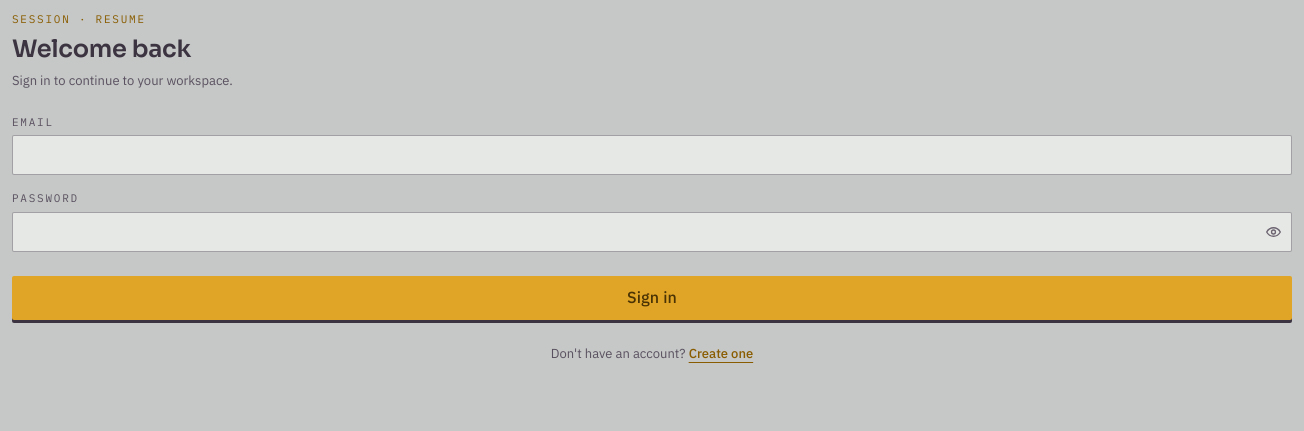
LoginPage › shows the server's real error message on wrong credentials, without redirecting
The width and height of the screenshot is (1304, 431).
Type "alice@example.com" into the field labelled "Email" at (652, 155), box [12,135,1292,175]
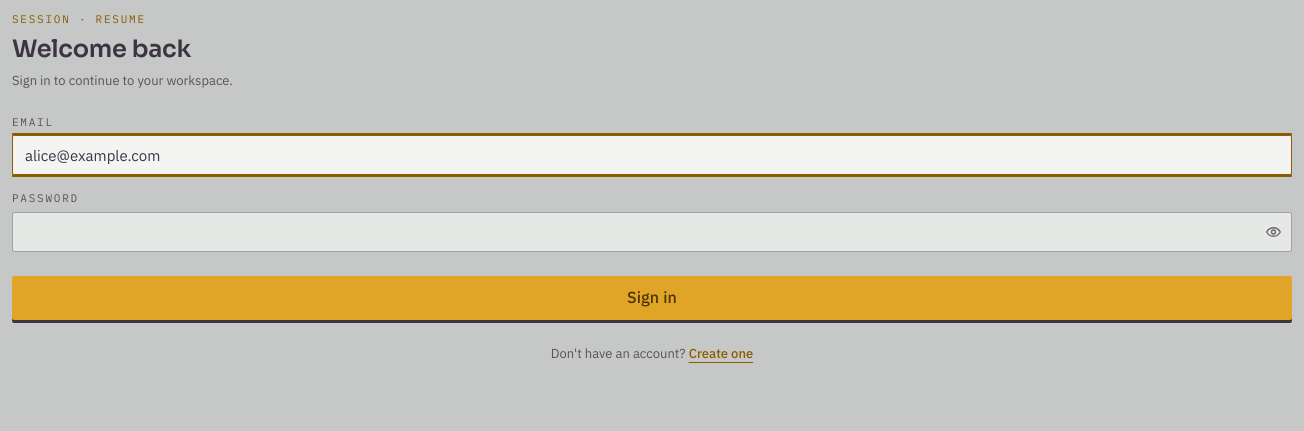
Type "wrong-password" into the password field labelled "Password" at (652, 232), box [12,212,1292,252]
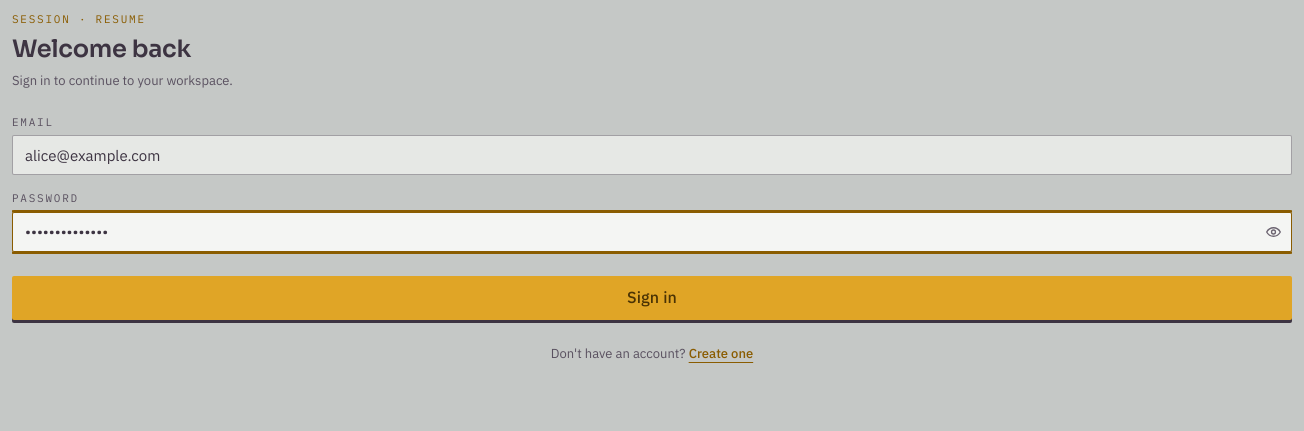
Click the button "Sign in" at (652, 298), box [12,276,1292,320]
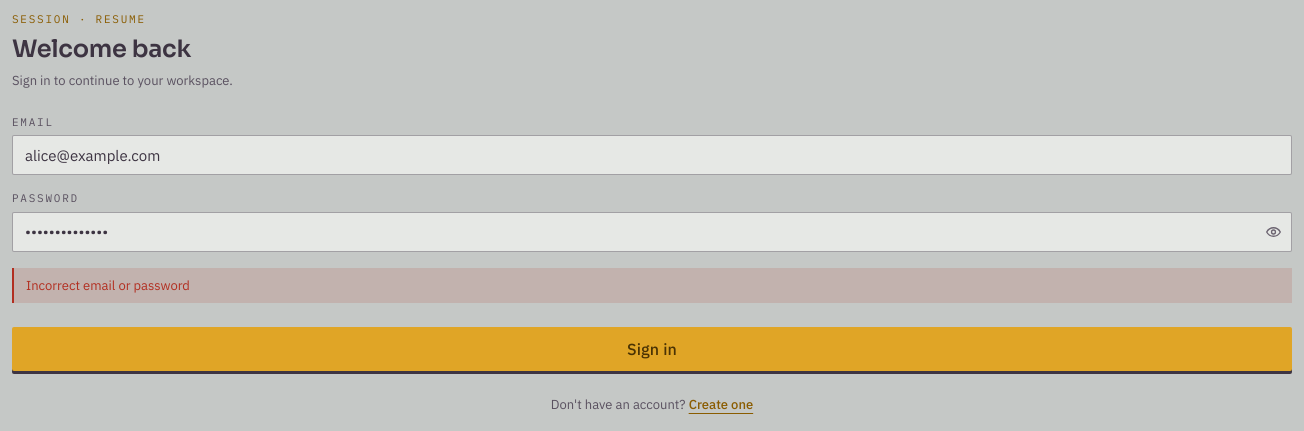
expect the message reads "Incorrect email or password": met, box [26,277,190,294]
